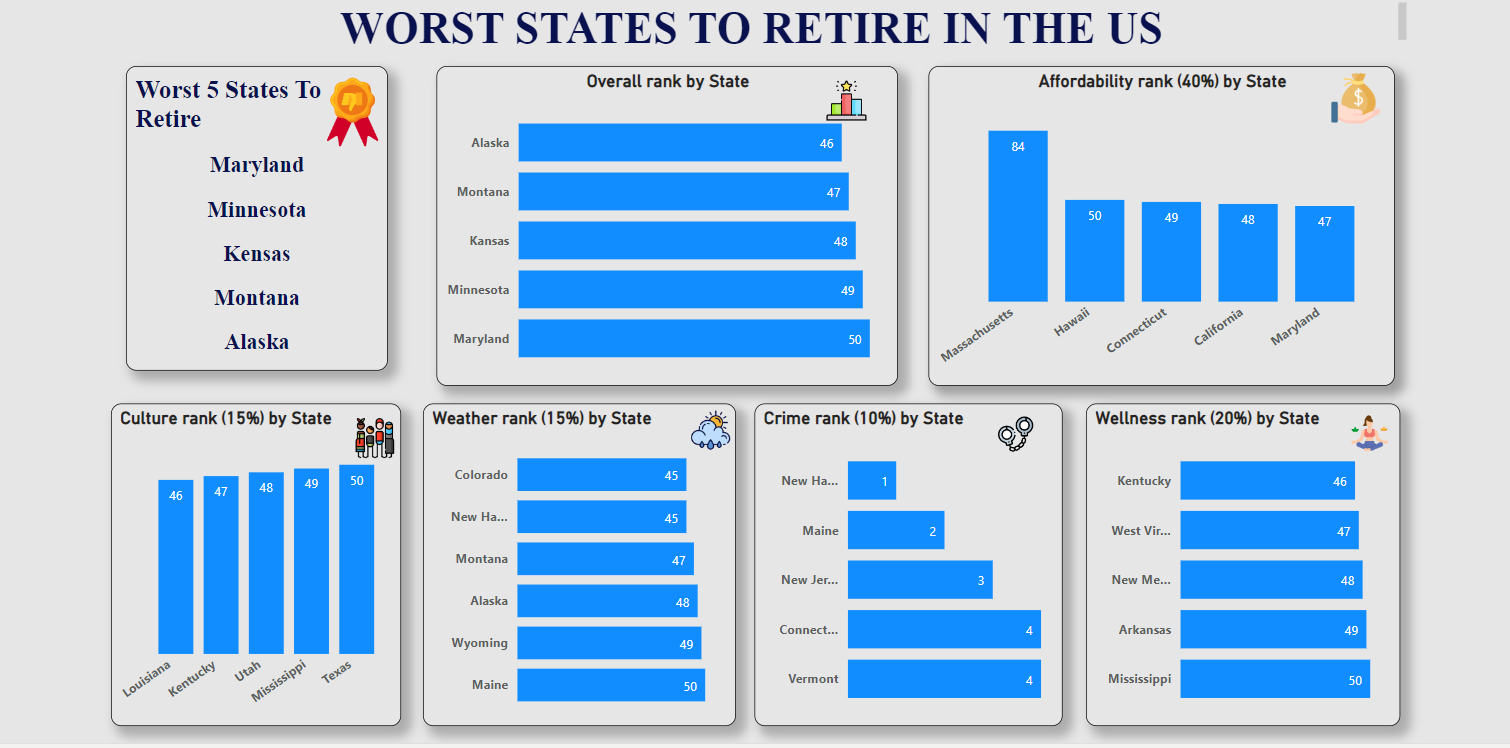

Layout of this report page (visuals, bound fields, positions):
{"tool":"powerbi","page":{"name":"Worst State To Retire","canvas":[1280,720],"ordinal":1},"visuals":[{"type":"clusteredBarChart","fields":{"Category":["Best States to Retire.State"],"Y":["Sum(Best States to Retire.Overall rank)"]},"box":[325.8,66.8,445,308.3],"z":0},{"type":"clusteredColumnChart","fields":{"Category":["Best States to Retire.State"],"Y":["Sum(Best States to Retire.Culture rank (15%))"]},"box":[11.1,392.6,279.7,311.5],"z":1000},{"type":"clusteredColumnChart","fields":{"Category":["Best States to Retire.State"],"Y":["Sum(Best States to Retire.Affordability rank (40%))"]},"box":[801.1,66.8,449.8,308.3],"z":2000},{"type":"clusteredBarChart","fields":{"Category":["Best States to Retire.State"],"Y":["Sum(Best States to Retire.Crime rank (10%))"]},"box":[632.6,392.6,297.2,311.5],"z":3000},{"type":"clusteredBarChart","fields":{"Category":["Best States to Retire.State"],"Y":["Sum(Best States to Retire.Weather rank (15%))"]},"box":[313.1,392.6,302,311.5],"z":4000},{"type":"clusteredBarChart","fields":{"Category":["Best States to Retire.State"],"Y":["Sum(Best States to Retire.Wellness rank (20%))"]},"box":[952.1,392.6,303.6,311.5],"z":5000},{"type":"textbox","box":[0,0,1266.8,52.5],"z":6000},{"type":"textbox","box":[25.4,66.8,252.7,294],"z":7000},{"type":"image","box":[232.1,400.5,69.9,49.3],"z":8000},{"type":"image","box":[564.2,392.6,50.9,50.9],"z":9000},{"type":"image","box":[839.2,398.9,90.6,44.5],"z":10000},{"type":"image","box":[1180.9,68.3,63.6,58.8],"z":11000},{"type":"image","box":[685,74.7,73.1,49.3],"z":12000},{"type":"image","box":[1201.6,397.4,49.3,49.3],"z":13000},{"type":"image","box":[200.3,68.3,90.6,85.8],"z":13001}]}

Visuals, with their boxes on the page's 1280x720 design canvas (x1, y1, x2, y2). These are canvas units, not pixel positions in the 1510x748 screenshot, which may show the page scaled, cropped or inside an application window:
clusteredBarChart - Best States to Retire.State x Sum(Best States to Retire.Overall rank): <bbox>326, 67, 771, 375</bbox>
clusteredColumnChart - Best States to Retire.State x Sum(Best States to Retire.Culture rank (15%)): <bbox>11, 393, 291, 704</bbox>
clusteredColumnChart - Best States to Retire.State x Sum(Best States to Retire.Affordability rank (40%)): <bbox>801, 67, 1251, 375</bbox>
clusteredBarChart - Best States to Retire.State x Sum(Best States to Retire.Crime rank (10%)): <bbox>633, 393, 930, 704</bbox>
clusteredBarChart - Best States to Retire.State x Sum(Best States to Retire.Weather rank (15%)): <bbox>313, 393, 615, 704</bbox>
clusteredBarChart - Best States to Retire.State x Sum(Best States to Retire.Wellness rank (20%)): <bbox>952, 393, 1256, 704</bbox>
textbox: <bbox>0, 0, 1267, 52</bbox>
textbox: <bbox>25, 67, 278, 361</bbox>
image: <bbox>232, 400, 302, 450</bbox>
image: <bbox>564, 393, 615, 444</bbox>
image: <bbox>839, 399, 930, 443</bbox>
image: <bbox>1181, 68, 1244, 127</bbox>
image: <bbox>685, 75, 758, 124</bbox>
image: <bbox>1202, 397, 1251, 447</bbox>
image: <bbox>200, 68, 291, 154</bbox>
